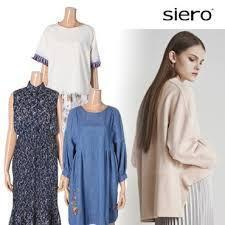Tshirt: (30, 21, 104, 119)
dress: (3, 80, 64, 225), (62, 103, 129, 225)
sweater: (132, 78, 220, 219)
